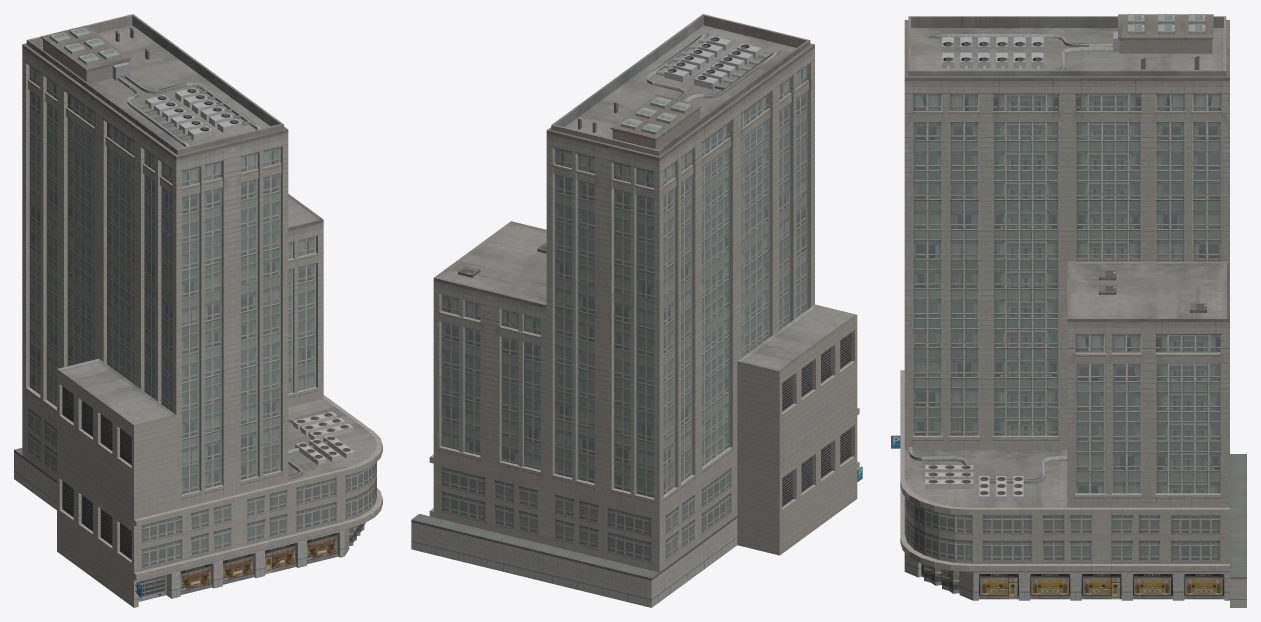
Rendered from office-l6.glb.
3 renders of one model, left to right at view 1: azimuth 30°, elevation 25°; view 2: azimuth 150°, elevation 25°; view 3: azimuth 270°, elevation 25°, orthographic. The views are drawn at different scales.
Parts seen in each view (by area): view 1: AIT01W2W7_b_hotr04_W2W7_t2_l1_0; view 2: AIT01W2W7_b_hotr04_W2W7_t2_l1_0; view 3: AIT01W2W7_b_hotr04_W2W7_t2_l1_0.
Boxes of the visible parts, bbox=[...] form: AIT01W2W7_b_hotr04_W2W7_t2_l1_0: bbox=[14, 14, 382, 607]; AIT01W2W7_b_hotr04_W2W7_t2_l1_0: bbox=[411, 14, 862, 607]; AIT01W2W7_b_hotr04_W2W7_t2_l1_0: bbox=[891, 14, 1246, 607].
Size of the model in its own units: 32 by 49.45 by 33.29.
1 material, 1 textured.
